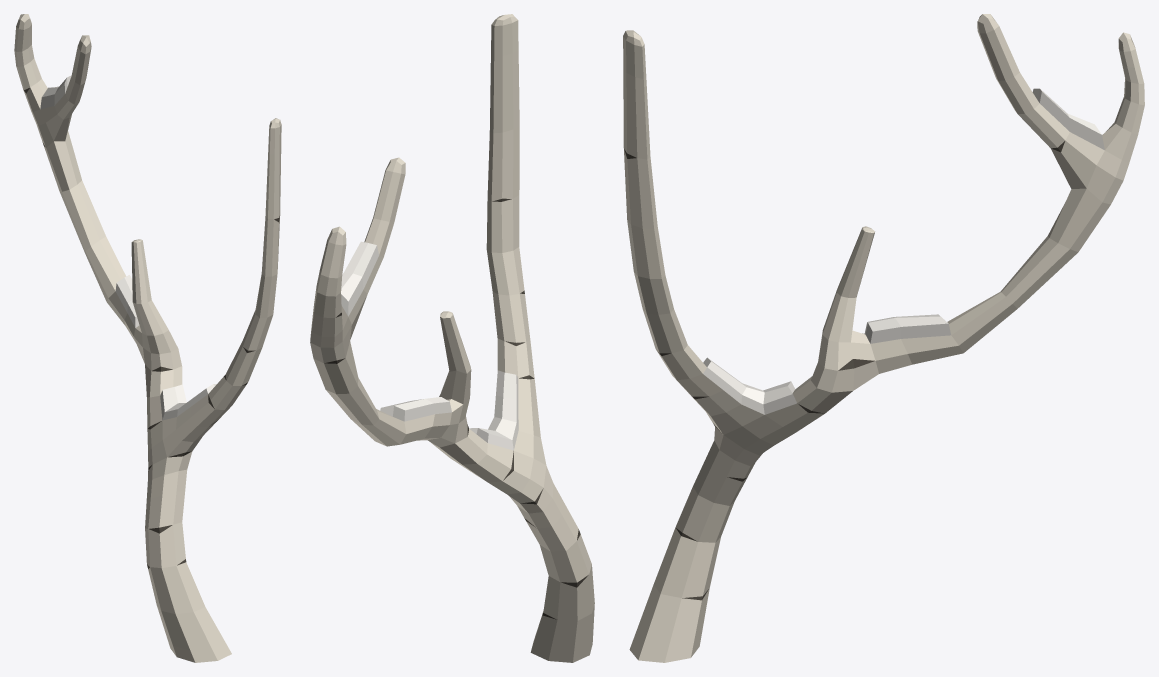
Rendered from BirchTree_Dead_Snow_1.glb.
3 views of the same model, side by side, from view 1: azimuth 30°, elevation 25°; view 2: azimuth 150°, elevation 25°; view 3: azimuth 270°, elevation 25° (orthographic). The views are drawn at different scales.
Parts seen in each view (by area): view 1: BirchTree_Dead_Snow_1; view 2: BirchTree_Dead_Snow_1; view 3: BirchTree_Dead_Snow_1.
Boxes of the visible parts, box(x1,y1,x2,y2) form: BirchTree_Dead_Snow_1: box(14, 14, 281, 662); BirchTree_Dead_Snow_1: box(310, 14, 594, 662); BirchTree_Dead_Snow_1: box(623, 14, 1144, 662).
Bounding box in the file's own units: 0.4806 × 2.25 × 1.63.
